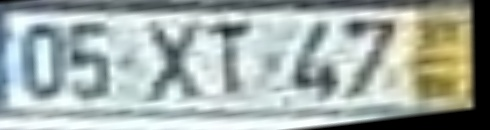0: (15, 20, 69, 105)
4: (288, 19, 347, 104)
5: (68, 21, 118, 105)
7: (342, 15, 408, 104)
T: (207, 20, 259, 102)
X: (140, 20, 209, 104)
